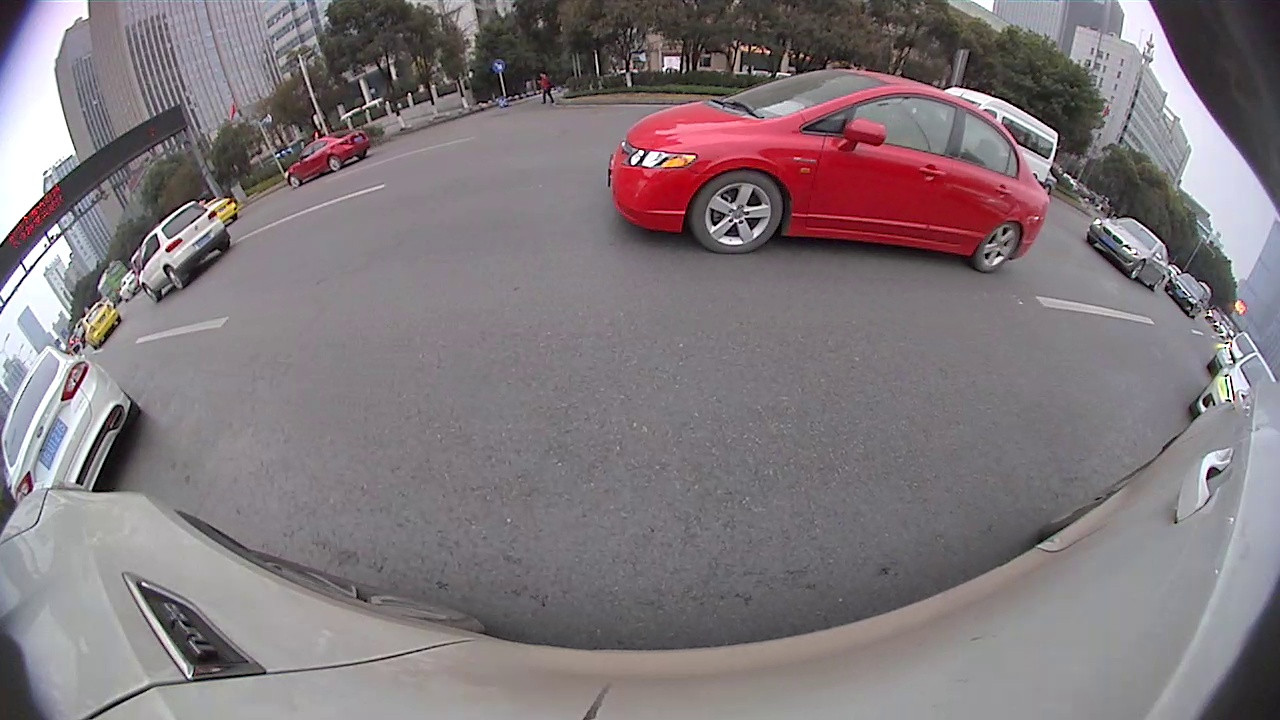car: (608, 70, 1044, 273), (5, 347, 143, 509), (942, 88, 1061, 182), (136, 204, 231, 299), (1088, 218, 1169, 290), (1193, 354, 1274, 421), (285, 130, 373, 190), (81, 302, 122, 345)
front: (687, 169, 785, 256), (142, 284, 161, 305), (1129, 259, 1146, 280), (287, 173, 302, 188)
rear: (972, 224, 1024, 274), (162, 264, 185, 293), (325, 152, 344, 171)
